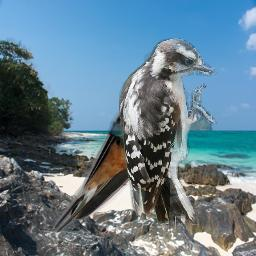Swallow: (46, 46, 191, 235)
Woodpecker: (119, 38, 217, 230)
